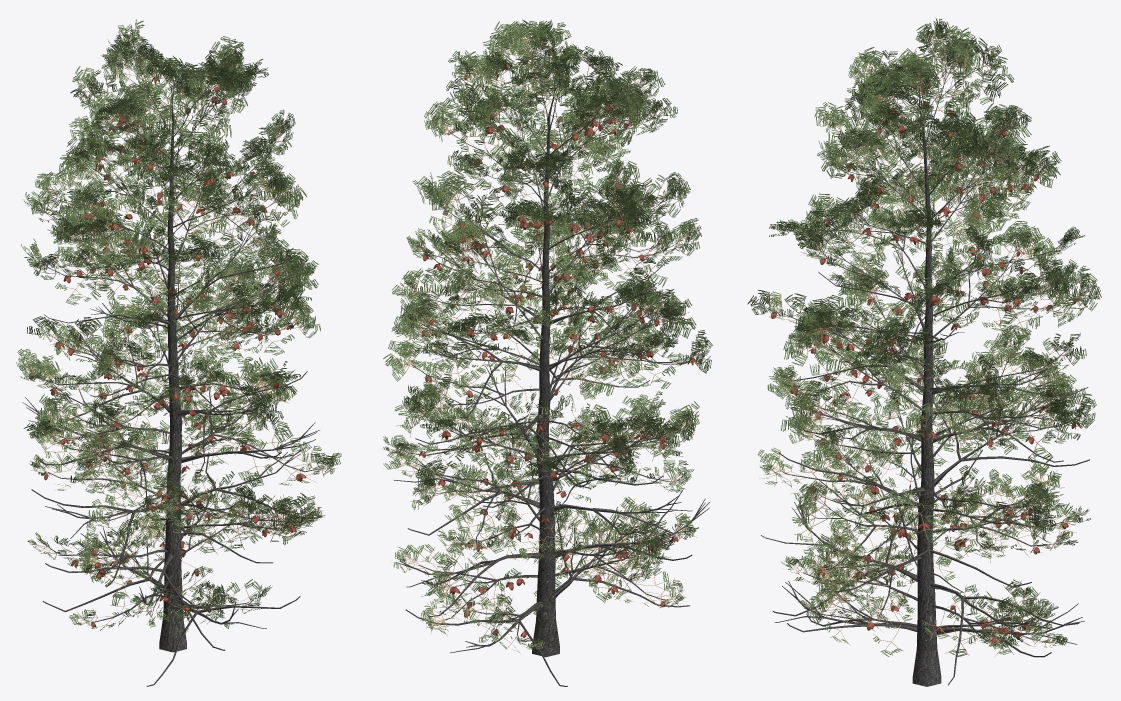
Rendered from Abies concolor002_LOW.FBX.
3 renders of one model, left to right at view 1: azimuth 30°, elevation 25°; view 2: azimuth 150°, elevation 25°; view 3: azimuth 270°, elevation 25°, orthographic. The views are drawn at different scales.
Visible parts, largest first — view 1: Abies concolor002_LOW; view 2: Abies concolor002_LOW; view 3: Abies concolor002_LOW.
Boxes of the visible parts, x1,y1,x2,y2 form: Abies concolor002_LOW: (16,19,341,686); Abies concolor002_LOW: (383,19,712,686); Abies concolor002_LOW: (747,18,1101,686).
Bounding box in the file's own units: 3331 × 6693 × 3437.
